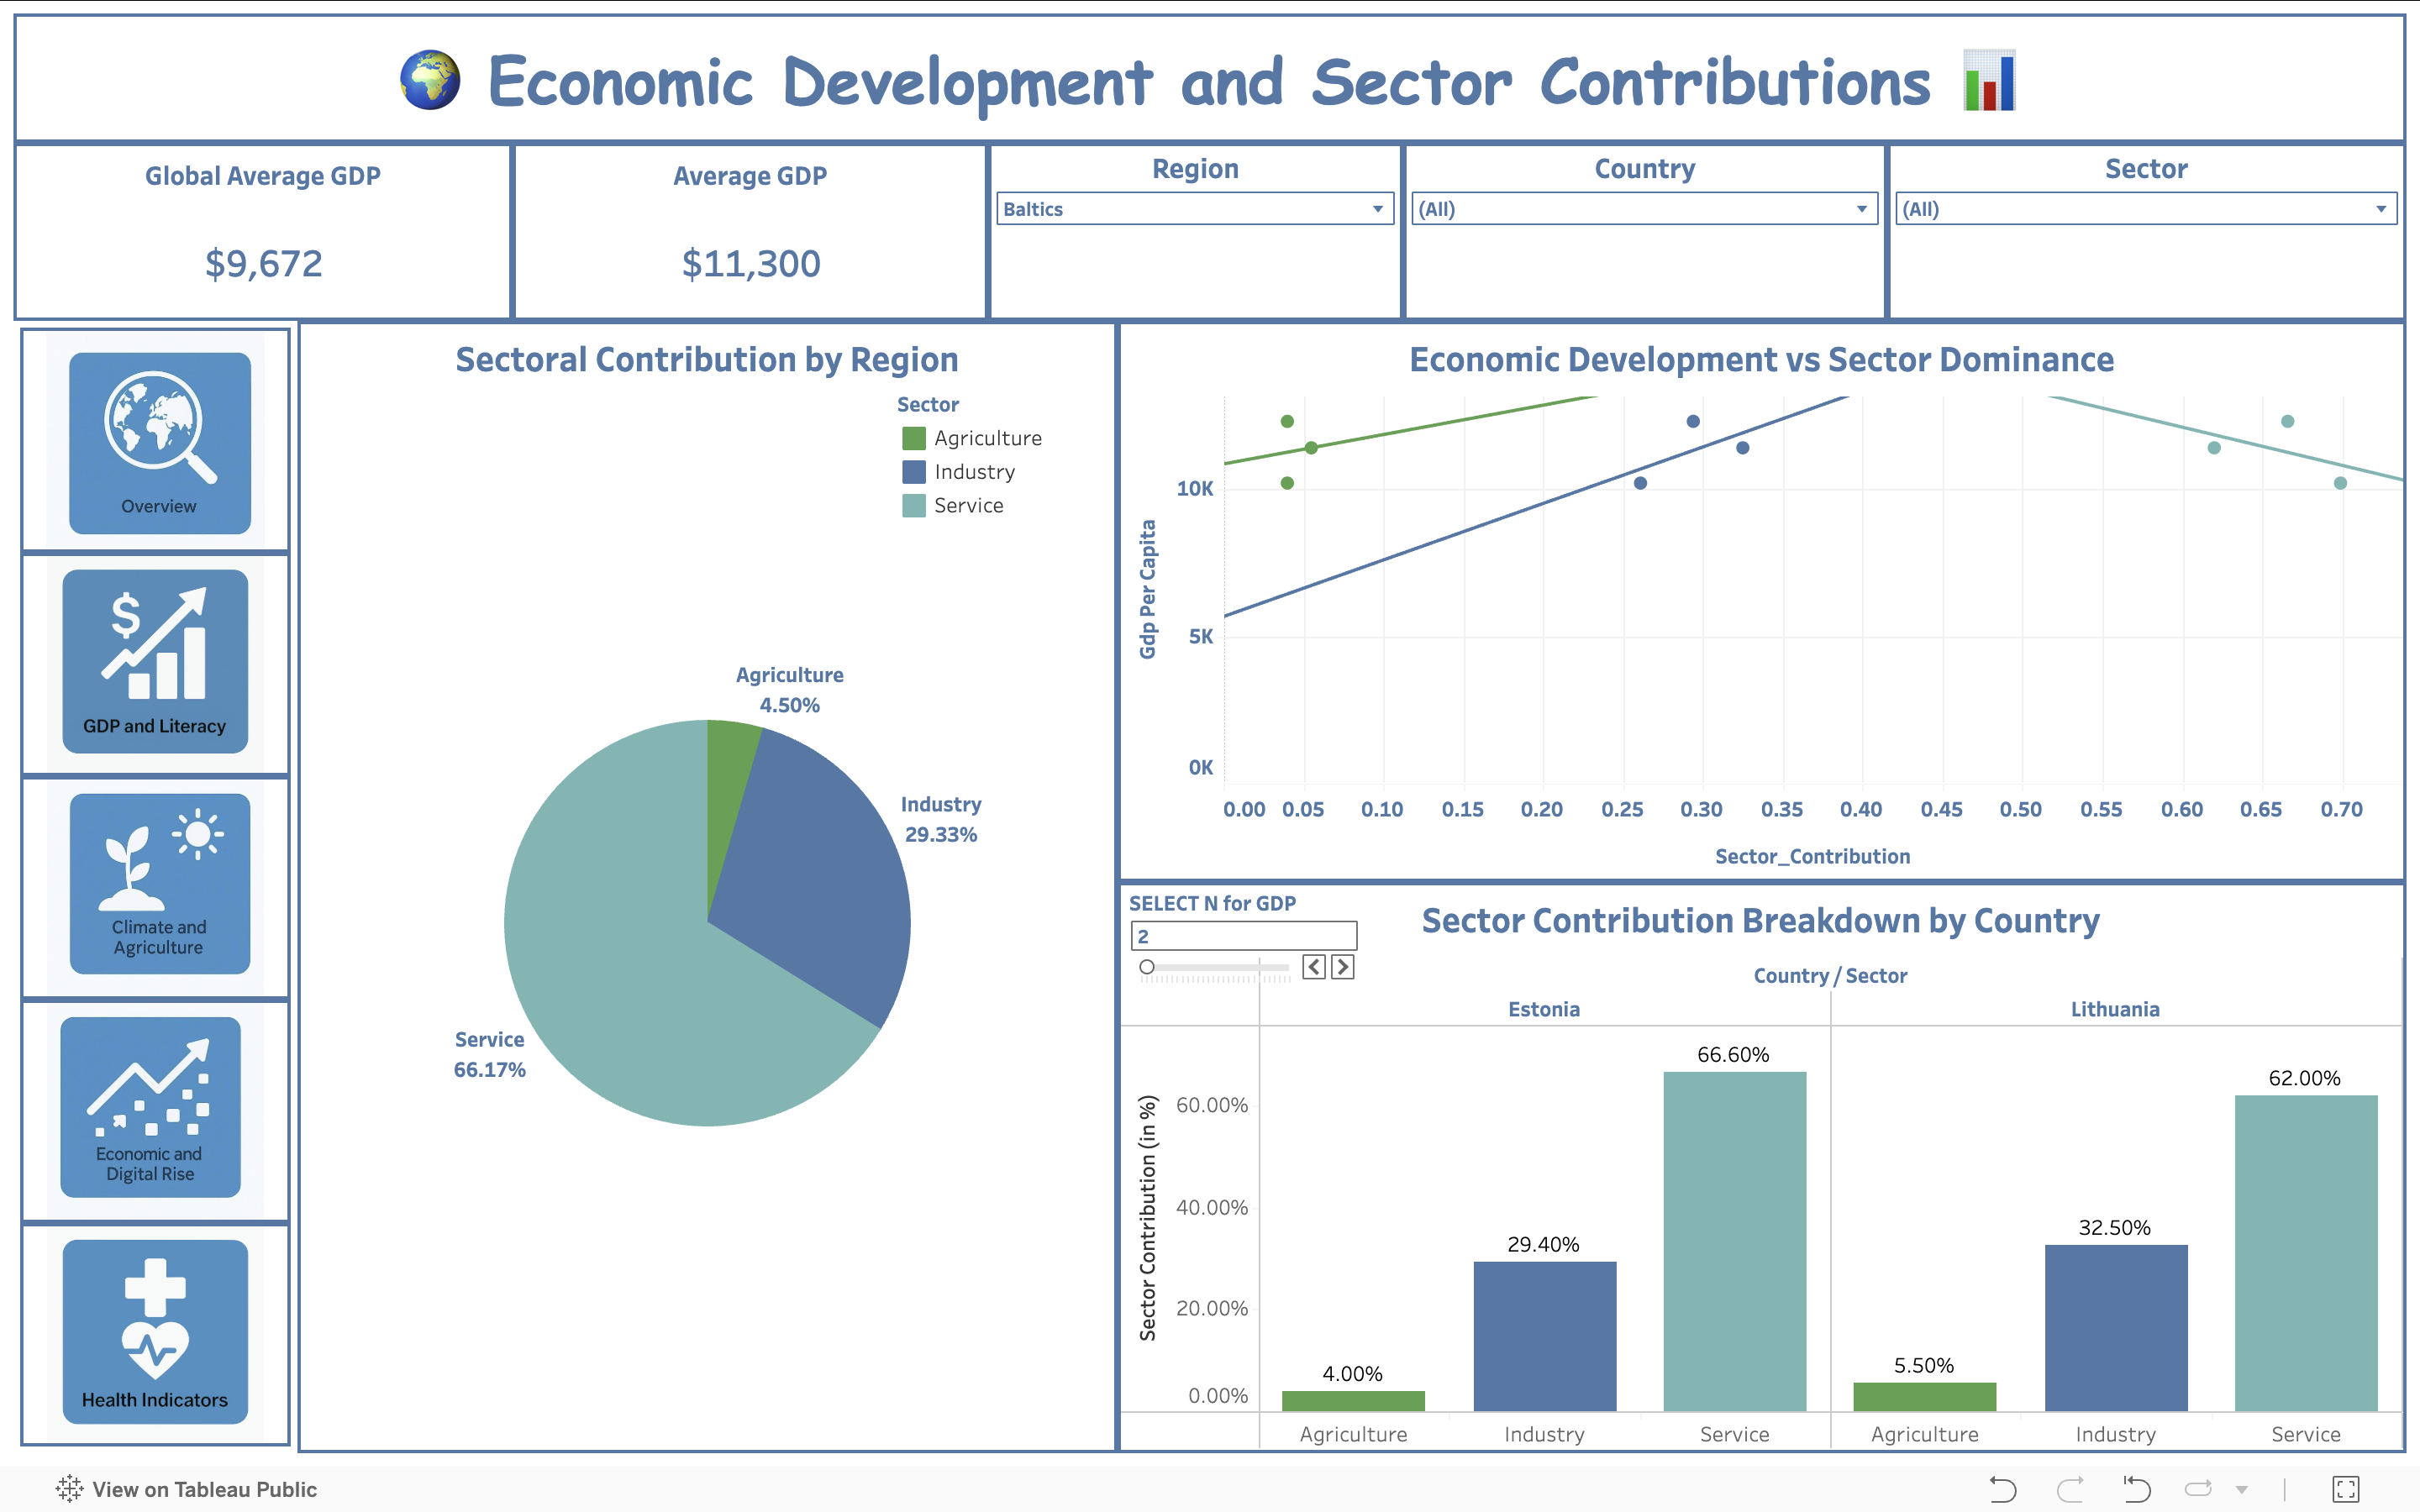

The dashboard page shown, as its layout file describes it:
{"tool":"tableau","page":{"name":"D3-Sector Contributions","canvas":[1000,1000],"units":"permille","ordinal":2},"visuals":[{"type":"text","box":[6.4,11.8,987.2,87.2]},{"type":"worksheet","title":"KPI - Global GDP","mark":"Automatic","box":[6.4,99,205.7,121.7]},{"type":"worksheet","title":"KPI - Avg GDP","mark":"Automatic","box":[212.1,99,196.1,121.7]},{"type":"filter","title":"Sectoral Contrb","param":"[federated.1gurpxn0cy5wmh1alyhjo01n5pxg].[none:region:nk]","box":[408.2,99,171.5,121.7]},{"type":"filter","title":"Sector Contr by Country","param":"[federated.1jd3lyw0j6hafg0znkj9u0xqlb94].[none:country:nk]","box":[579.7,99,199.7,121.7]},{"type":"filter","title":"Economic Dev Vs sector Dominance","param":"[federated.1gurpxn0cy5wmh1alyhjo01n5pxg].[none:Pivot Field Names:nk]","box":[779.4,99,214.2,121.7]},{"type":"worksheet","title":"Sectoral Contrb","mark":"Pie","box":[123.6,220.7,338.3,767.5]},{"type":"worksheet","title":"Economic Dev Vs sector Dominance","mark":"Automatic","rows":["gdp_per_capita"],"cols":["Pivot Field Values"],"box":[461.9,220.7,531.7,379.3]},{"type":"dashboard-object","box":[9.6,226.3,110.7,152.4]},{"type":"legend","title":"Sector Contr by Country","param":"[federated.1gurpxn0cy5wmh1alyhjo01n5pxg].[none:Pivot Field Names:nk]","box":[370.5,266.3,96.2,143.5]},{"type":"dashboard-object","box":[9.6,378.7,110.7,150.9]},{"type":"dashboard-object","box":[9.6,529.6,110.7,150.9]},{"type":"worksheet","title":"Sector Contr by Country","mark":"Automatic","rows":["Sector_Contribution (copy)_1139692184205168654"],"cols":["country","Pivot Field Names"],"box":[461.9,600,531.7,388.2]},{"type":"parameter","param":"[Parameters].[SELECT N (copy)_1107885512282595328]","box":[466.7,605,95.4,72.5]},{"type":"dashboard-object","box":[9.6,680.5,110.7,150.9]},{"type":"dashboard-object","box":[9.6,831.4,110.7,150.9]}]}

Visuals, with their boxes on the dashboard's canvas, which has no fixed pixel size, in thousandths of its width and height (x1, y1, x2, y2). These are canvas units, not pixel positions in the 2420x1512 screenshot, which may show the page scaled, cropped or inside an application window:
text: [x1=6, y1=12, x2=994, y2=99]
"KPI - Global GDP" worksheet: [x1=6, y1=99, x2=212, y2=221]
"KPI - Avg GDP" worksheet: [x1=212, y1=99, x2=408, y2=221]
"Sectoral Contrb" filter: [x1=408, y1=99, x2=580, y2=221]
"Sector Contr by Country" filter: [x1=580, y1=99, x2=779, y2=221]
"Economic Dev Vs sector Dominance" filter: [x1=779, y1=99, x2=994, y2=221]
"Sectoral Contrb" worksheet (Pie marks): [x1=124, y1=221, x2=462, y2=988]
"Economic Dev Vs sector Dominance" worksheet: [x1=462, y1=221, x2=994, y2=600]
dashboard-object: [x1=10, y1=226, x2=120, y2=379]
"Sector Contr by Country" legend: [x1=370, y1=266, x2=467, y2=410]
dashboard-object: [x1=10, y1=379, x2=120, y2=530]
dashboard-object: [x1=10, y1=530, x2=120, y2=680]
"Sector Contr by Country" worksheet: [x1=462, y1=600, x2=994, y2=988]
parameter: [x1=467, y1=605, x2=562, y2=678]
dashboard-object: [x1=10, y1=680, x2=120, y2=831]
dashboard-object: [x1=10, y1=831, x2=120, y2=982]
